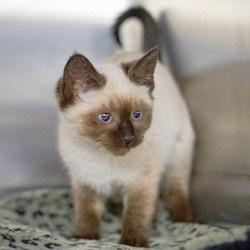siamese: (52, 41, 165, 162)
